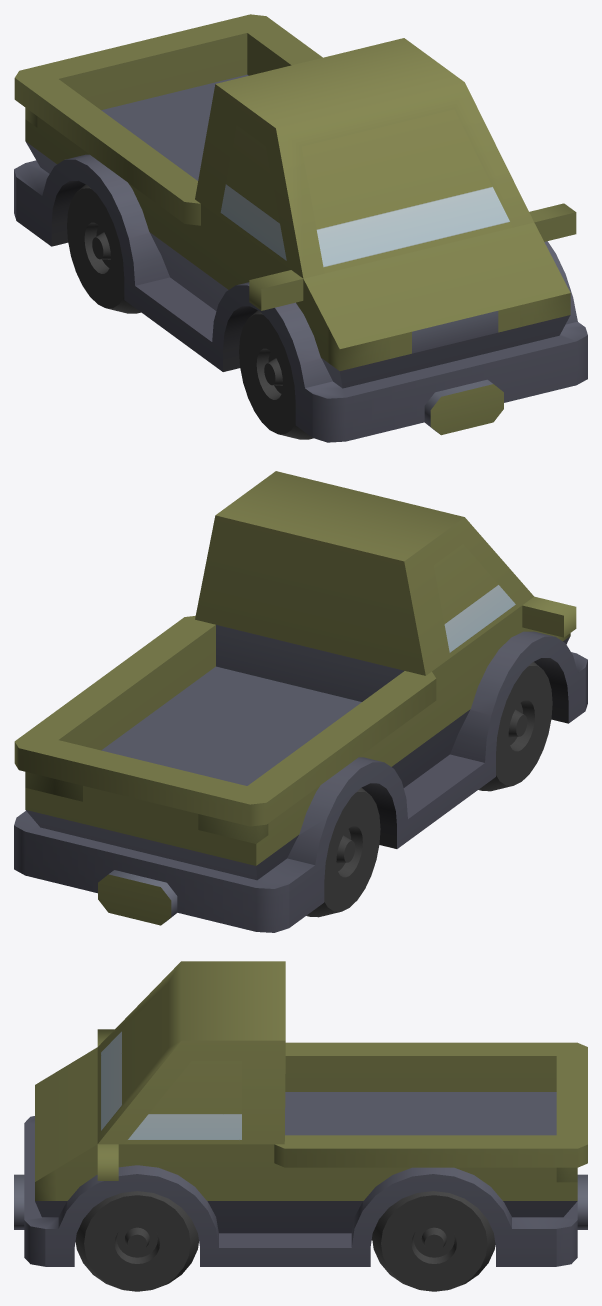
The model's file is truck_mil.glb.
The picture shows the model from 3 angles, top to bottom: view 1: azimuth 30°, elevation 25°; view 2: azimuth 150°, elevation 25°; view 3: azimuth 270°, elevation 25°; orthographic projection. The views are drawn at different scales.
Visible parts, largest first — view 1: body, wheel-back-right, wheel-front-right; view 2: body, wheel-front-right, wheel-back-right; view 3: body, wheel-front-left, wheel-back-left.
Part boxes in pixels (left/top/right/bottom): body: left=14, top=14, right=587, bottom=442; wheel-back-right: left=67, top=184, right=140, bottom=313; wheel-front-right: left=239, top=310, right=313, bottom=439; body: left=14, top=471, right=587, bottom=932; wheel-front-right: left=478, top=662, right=552, bottom=791; wheel-back-right: left=306, top=787, right=380, bottom=917; body: left=14, top=961, right=587, bottom=1266; wheel-front-left: left=75, top=1191, right=198, bottom=1291; wheel-back-left: left=372, top=1191, right=495, bottom=1291.
Bounding box in the file's own units: 1.5 × 1.3 × 2.75.
2 materials, 1 textured.
